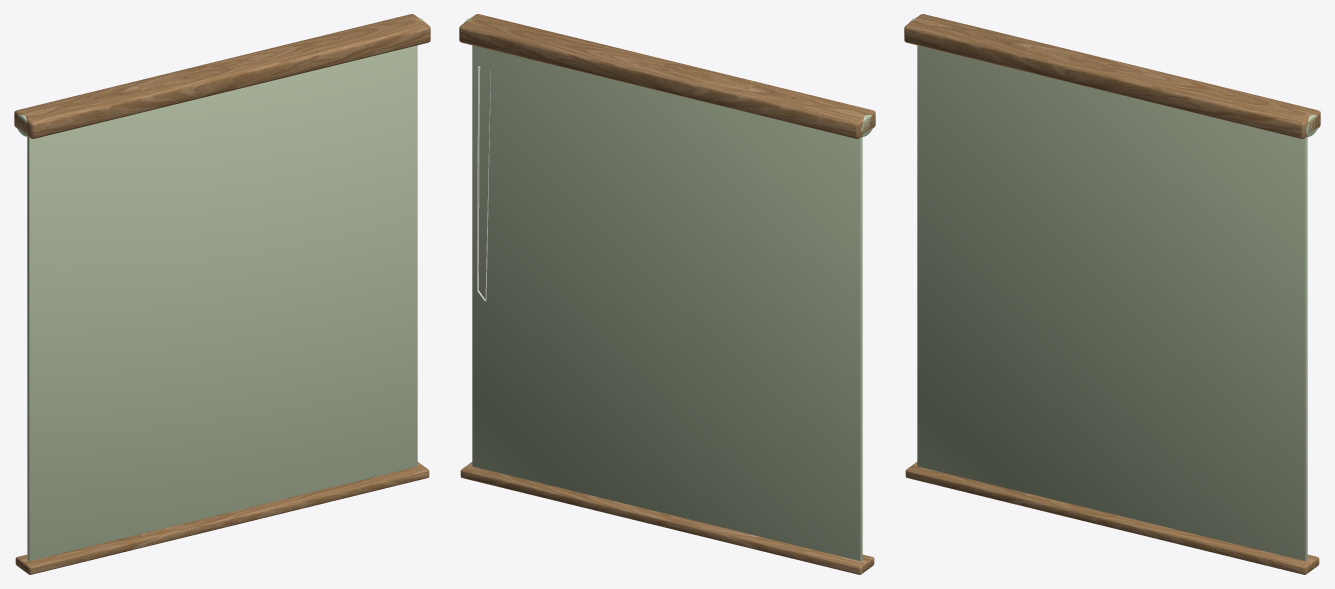
File: blind-roller.glb
The picture shows the model from 3 angles, left to right: view 1: azimuth 30°, elevation 25°; view 2: azimuth 150°, elevation 25°; view 3: azimuth 330°, elevation 25°; orthographic projection.
Visible parts, largest first — view 1: catalog_surface_RealismUV; view 2: catalog_surface_RealismUV; view 3: catalog_surface_RealismUV.
Part boxes in pixels (<box>): catalog_surface_RealismUV: <box>14,14,430,574</box>; catalog_surface_RealismUV: <box>459,14,875,574</box>; catalog_surface_RealismUV: <box>904,14,1320,574</box>.
Bounding box in the file's own units: 1.2 × 1.3 × 0.1.
Materials: 3 (1 with a texture image).
